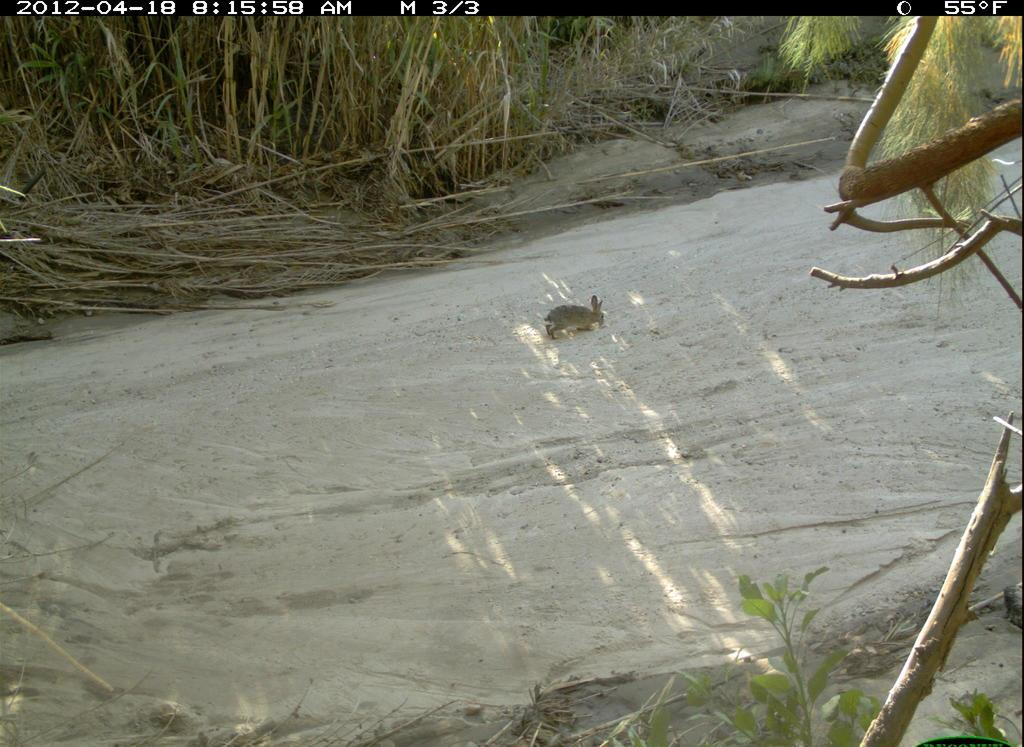rabbit: (536, 286, 623, 350)
